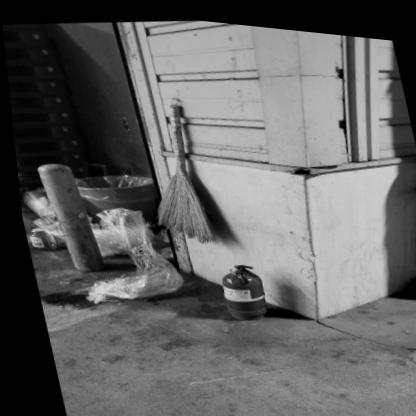FE: (211, 255, 265, 320)
